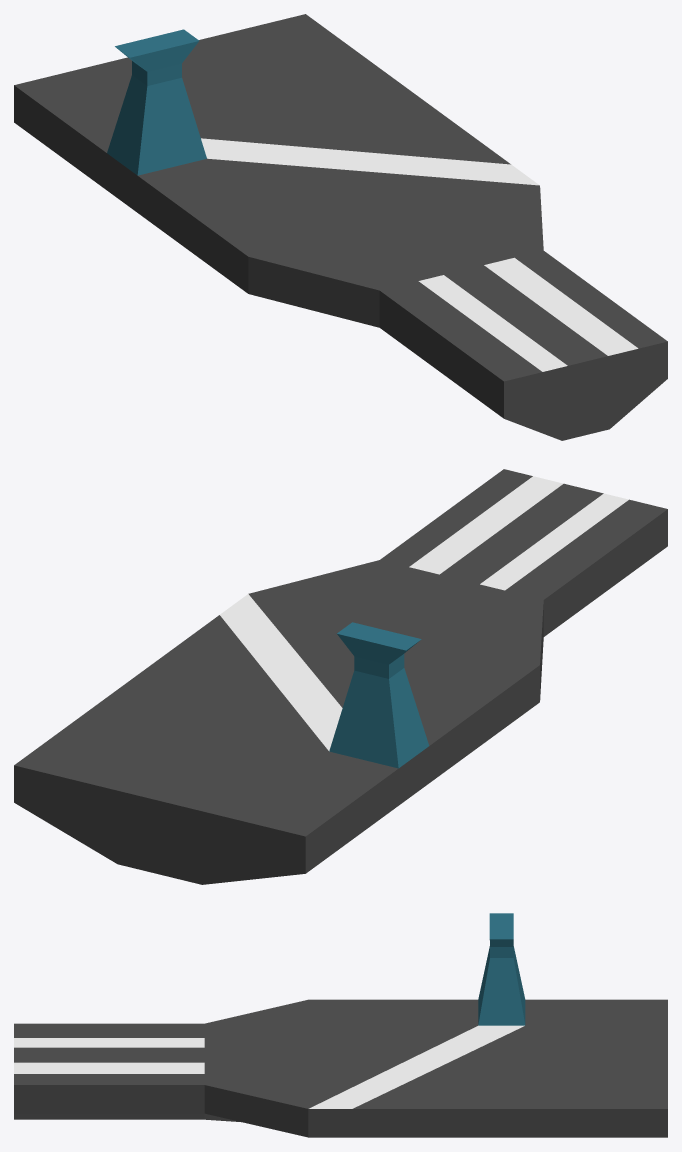
Rendered from Ship.obj.
The picture shows the model from 3 angles, top to bottom: view 1: azimuth 30°, elevation 25°; view 2: azimuth 150°, elevation 25°; view 3: azimuth 270°, elevation 25°; orthographic projection. The views are drawn at different scales.
Visible parts, largest first — view 1: Cube; view 2: Cube; view 3: Cube.
Part boxes in pixels (x1=…): Cube: x1=14, y1=14, x2=667, y2=440; Cube: x1=14, y1=469, x2=667, y2=884; Cube: x1=14, y1=913, x2=667, y2=1137.
Bounding box in the file's own units: 6.5 × 3.96 × 16.44.
1 material, 1 textured.
